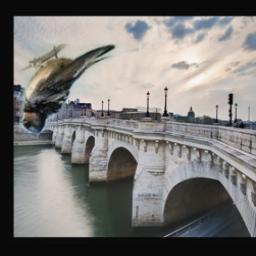Swallow: (20, 44, 140, 133)
